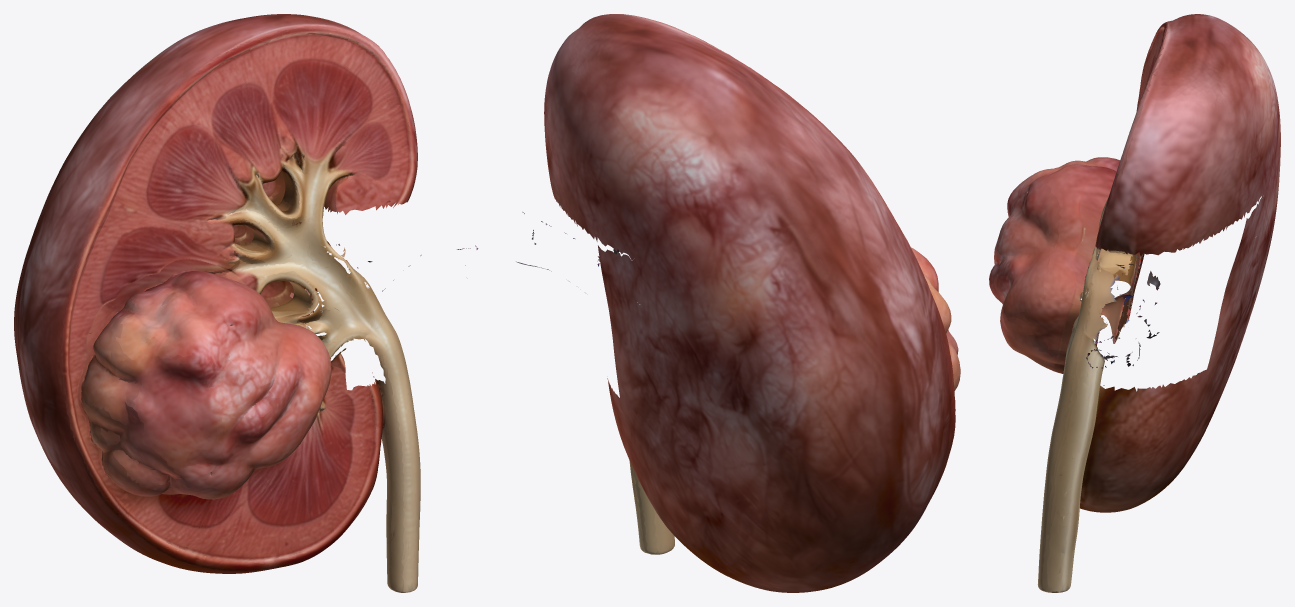
File: cutaway-registered.glb
3 views of the same model, side by side, from view 1: azimuth 30°, elevation 25°; view 2: azimuth 150°, elevation 25°; view 3: azimuth 270°, elevation 25° (orthographic). The views are drawn at different scales.
Visible parts, largest first — view 1: Lux3D_Right_Renal_body, Lux3D_Right_Renal_artery; view 2: Lux3D_Right_Renal_body, Lux3D_Right_Renal_artery; view 3: Lux3D_Right_Renal_body, Lux3D_Right_Renal_artery.
Boxes of the visible parts, x1=… form: Lux3D_Right_Renal_body: x1=14, y1=14, x2=478, y2=592; Lux3D_Right_Renal_artery: x1=269, y1=220, x2=346, y2=390; Lux3D_Right_Renal_body: x1=516, y1=14, x2=960, y2=592; Lux3D_Right_Renal_artery: x1=598, y1=245, x2=658, y2=419; Lux3D_Right_Renal_body: x1=989, y1=14, x2=1280, y2=592; Lux3D_Right_Renal_artery: x1=1024, y1=194, x2=1264, y2=375.
Size of the model in its own units: 0.8123 by 1 by 0.5105.
Materials: 1 (1 with a texture image).
